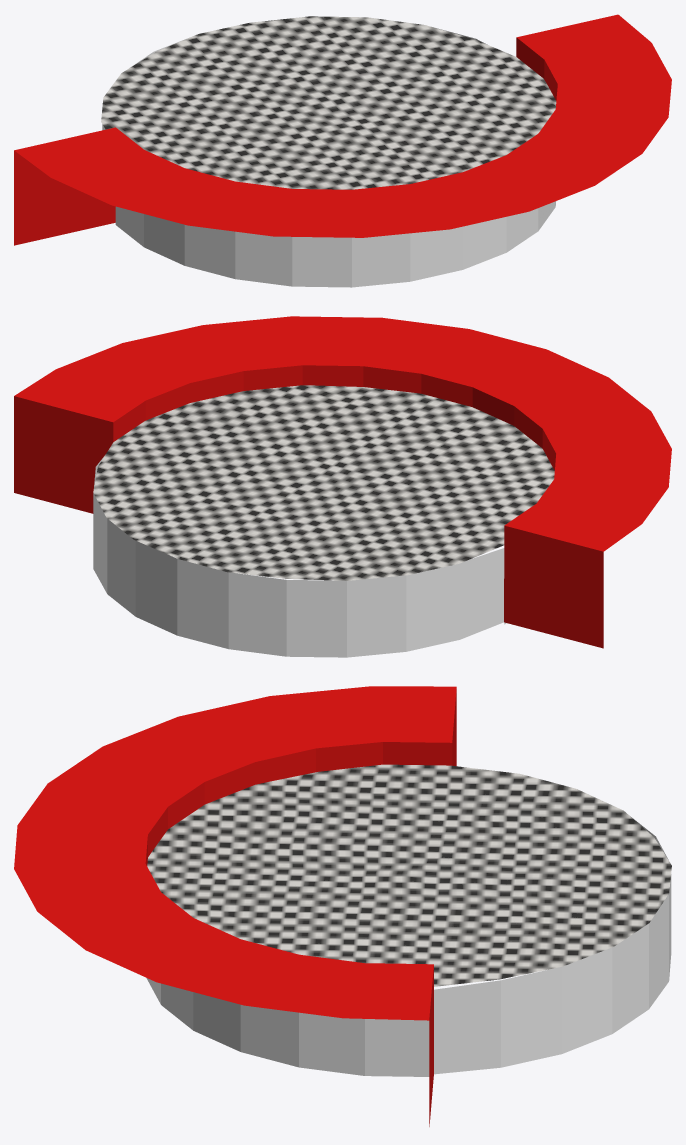
File: FINISH_POINT.fbx
The picture shows the model from 3 angles, top to bottom: view 1: azimuth 30°, elevation 25°; view 2: azimuth 150°, elevation 25°; view 3: azimuth 270°, elevation 25°; orthographic projection. The views are drawn at different scales.
Parts seen in each view (by area): view 1: SM_FINISH_POINT.029; view 2: SM_FINISH_POINT.029; view 3: SM_FINISH_POINT.029.
Boxes of the visible parts, bbox=[...] form: SM_FINISH_POINT.029: bbox=[14, 14, 671, 287]; SM_FINISH_POINT.029: bbox=[14, 316, 671, 657]; SM_FINISH_POINT.029: bbox=[14, 686, 671, 1126].
Bounding box in the file's own units: 17758 × 2797 × 14774.
2 materials, 1 textured.
